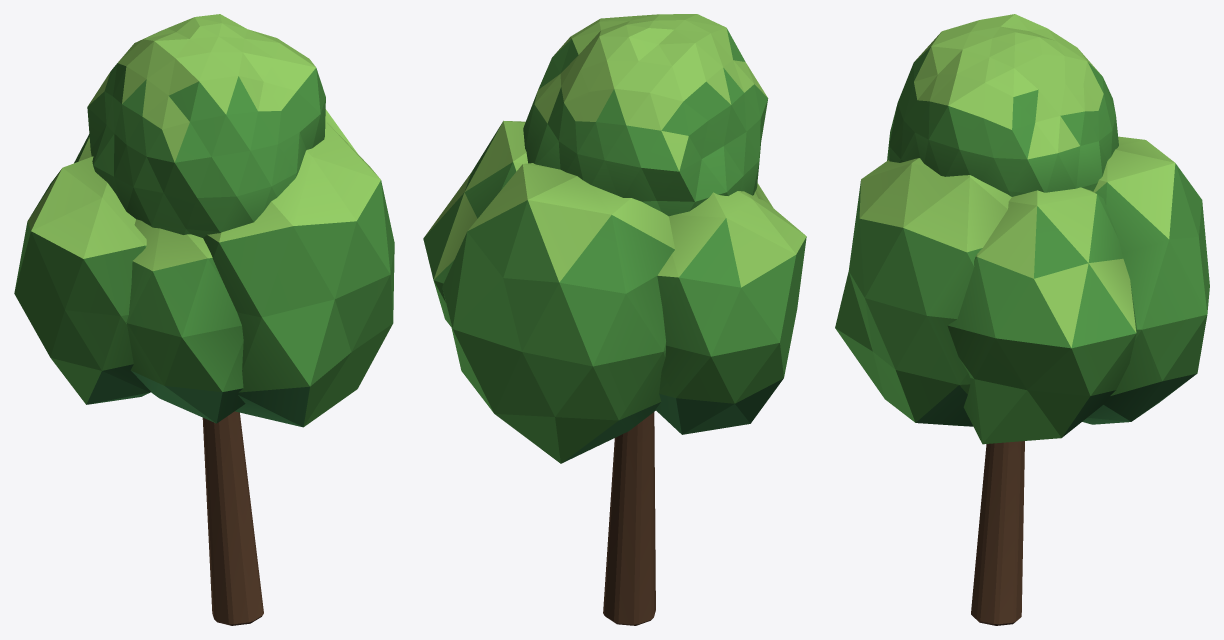
The model's file is tree_broadleaf_c_large.glb.
3 renders of one model, left to right at view 1: azimuth 30°, elevation 25°; view 2: azimuth 150°, elevation 25°; view 3: azimuth 270°, elevation 25°, orthographic. The views are drawn at different scales.
Visible parts, largest first — view 1: Canopy, Trunk; view 2: Canopy, Trunk; view 3: Canopy, Trunk.
Part boxes in pixels (x1,y1,x2,y2): Canopy: (14,14,394,427); Trunk: (202,411,263,625); Canopy: (423,14,806,463); Trunk: (603,412,655,625); Canopy: (835,14,1209,444); Trunk: (971,441,1024,625).
Bounding box in the file's own units: 8.13 × 13.14 × 7.79.
1 material, 1 textured.
